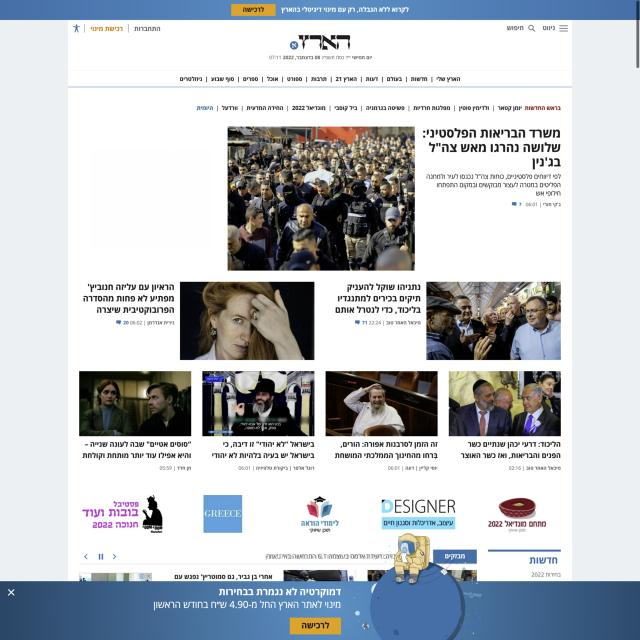logo: (266, 29, 375, 64)
navigation: (195, 102, 564, 113), (177, 72, 465, 86)
